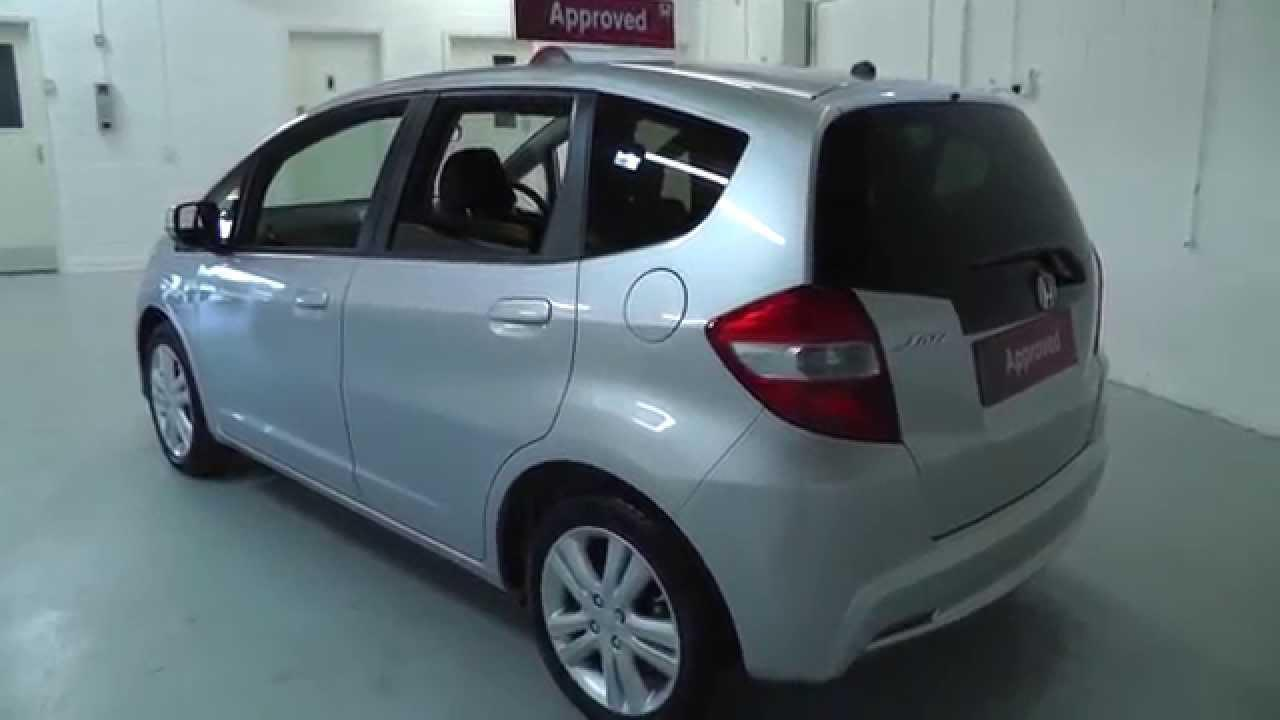Hatchback: (112, 40, 1136, 720)
